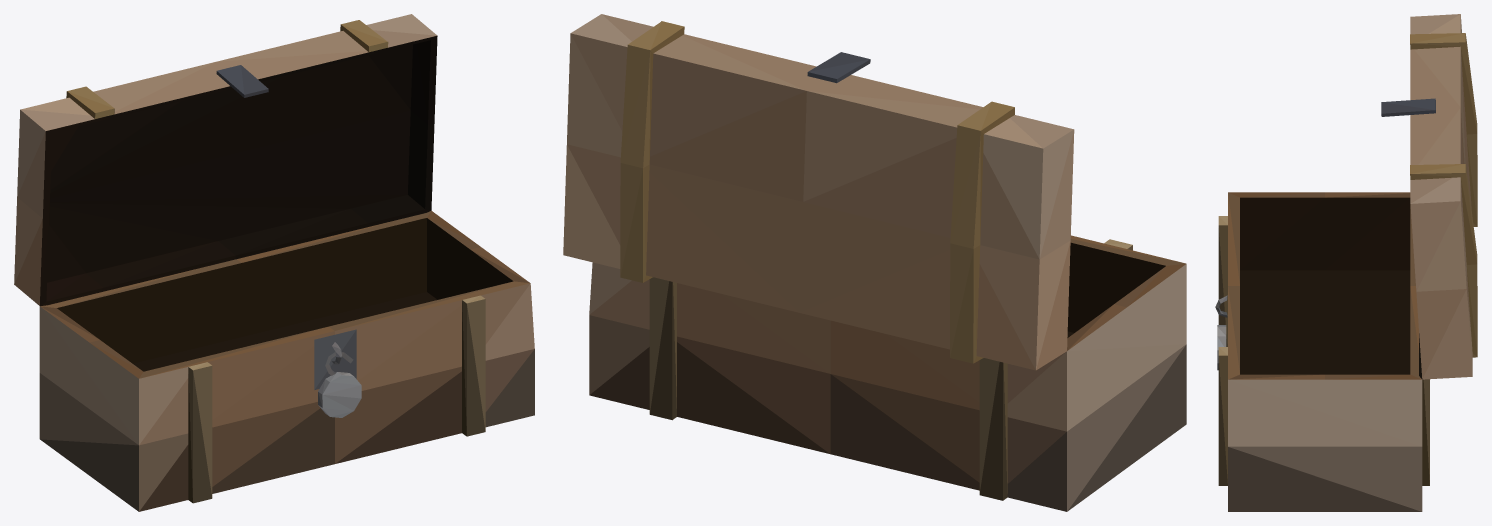
File: prop_container_chest_1_anim.fbx
3 renders of one model, left to right at view 1: azimuth 30°, elevation 25°; view 2: azimuth 150°, elevation 25°; view 3: azimuth 270°, elevation 25°, orthographic. The views are drawn at different scales.
Parts seen in each view (by area): view 1: bottom_1, top_1; view 2: top_1, bottom_1; view 3: bottom_1, top_1.
Boxes of the visible parts, x1,y1,x2,y2 form: bottom_1: [39, 210, 534, 511]; top_1: [14, 14, 437, 305]; top_1: [563, 14, 1074, 370]; bottom_1: [589, 235, 1186, 511]; bottom_1: [1215, 192, 1429, 511]; top_1: [1381, 14, 1477, 379].
Bounding box in the file's own units: 2.28 × 1.76 × 1.34.
